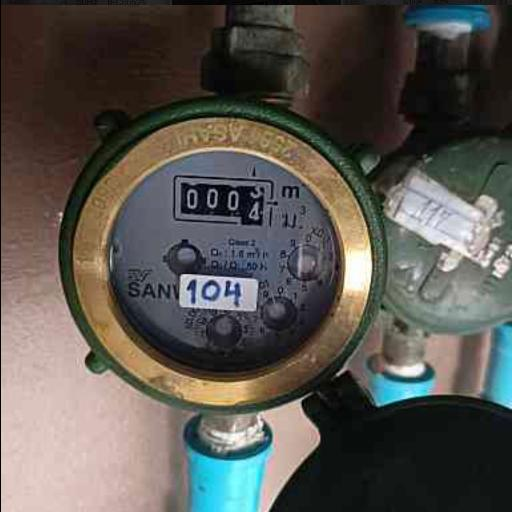0: (179, 183, 203, 214), (222, 185, 243, 217), (202, 184, 223, 215)
4: (241, 182, 265, 224)
border_water_meter_number: (171, 174, 274, 228)
